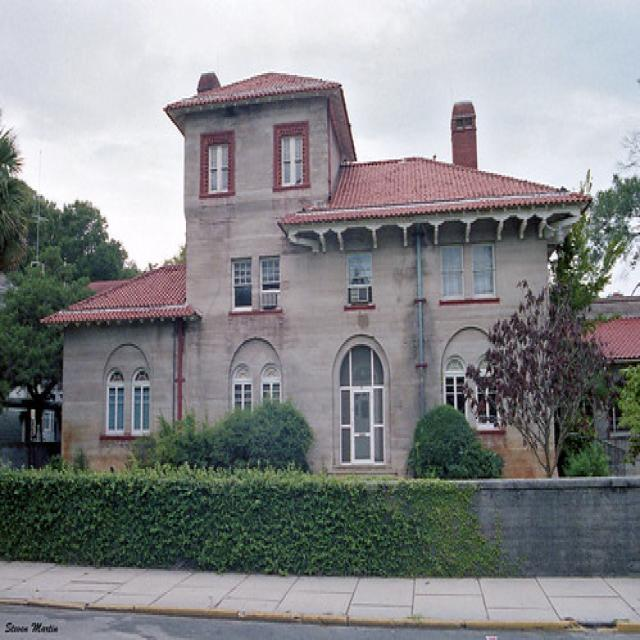building: (41, 62, 585, 486)
